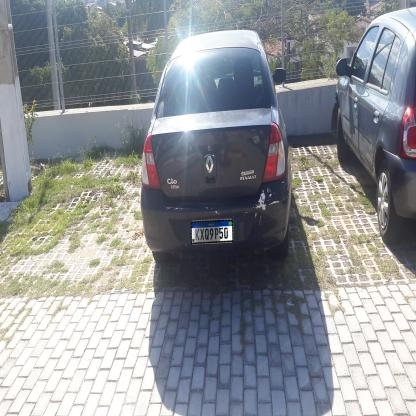PlacaM: (191, 220, 233, 244)
